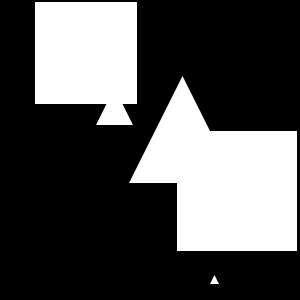circle: (177, 131, 297, 251), (35, 2, 137, 104)
triangle: (129, 76, 236, 183), (96, 88, 133, 125), (210, 275, 219, 284)
